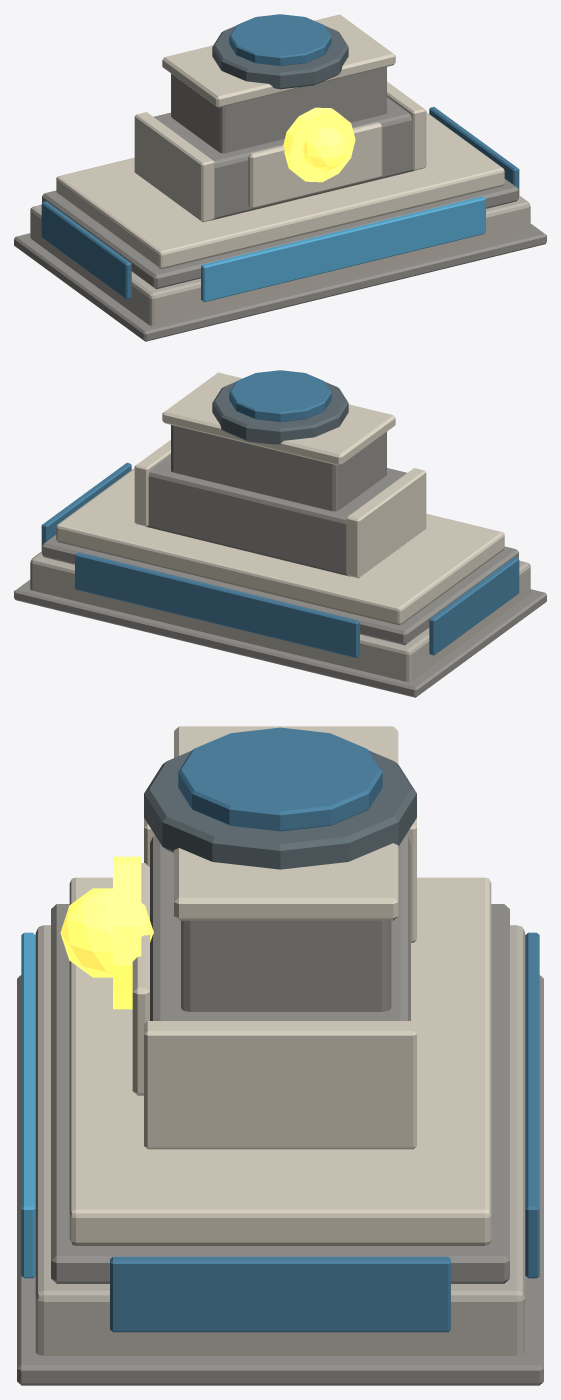
Rendered from hq_common.glb.
The picture shows the model from 3 angles, top to bottom: view 1: azimuth 30°, elevation 25°; view 2: azimuth 150°, elevation 25°; view 3: azimuth 270°, elevation 25°; orthographic projection. The views are drawn at different scales.
Visible parts, largest first — view 1: Base_Top, FactionPanel_Front, Base_Main, Core_UpperHousing, Base_Skirt, Core_Housing, Core_UpperTrim, Core_Frame_Left, Base_Trim, Core_Frame_Front, Turret_Collar, Turret_Base (+5 smaller); view 2: Base_Top, Core_Housing, FactionPanel_Back, Core_UpperHousing, Base_Main, Base_Skirt, Core_UpperTrim, Core_Frame_Left, Base_Trim, Turret_Collar, Turret_Base, FactionPanel_Left (+2 smaller); view 3: Base_Top, Core_Frame_Right, Base_Main, FactionPanel_Right, Base_Skirt, Base_Trim, Core_UpperHousing, Turret_Collar, Core_UpperTrim, Turret_Base, Core_Housing, FactionPanel_Back (+5 smaller).
Boxes of the visible parts, x1,y1,x2,y2 form: Base_Top: [56, 112, 504, 268]; FactionPanel_Front: [201, 196, 485, 302]; Base_Main: [30, 195, 530, 325]; Core_UpperHousing: [171, 67, 386, 153]; Base_Skirt: [14, 224, 546, 341]; Core_Housing: [154, 97, 414, 220]; Core_UpperTrim: [162, 14, 395, 107]; Core_Frame_Left: [134, 112, 214, 222]; Base_Trim: [42, 179, 518, 289]; Core_Frame_Front: [248, 122, 382, 208]; Turret_Collar: [229, 14, 331, 65]; Turret_Base: [212, 26, 348, 89]; Base_Top: [56, 468, 504, 624]; Core_Housing: [146, 455, 406, 576]; FactionPanel_Back: [75, 552, 359, 658]; Core_UpperHousing: [171, 425, 386, 511]; Base_Main: [30, 551, 530, 681]; Base_Skirt: [14, 580, 546, 697]; Core_UpperTrim: [162, 372, 395, 465]; Core_Frame_Left: [346, 468, 426, 578]; Base_Trim: [42, 535, 518, 645]; Turret_Collar: [229, 370, 331, 421]; Turret_Base: [212, 382, 348, 444]; FactionPanel_Left: [429, 557, 519, 655]; Base_Top: [69, 877, 491, 1245]; Core_Frame_Right: [144, 1021, 416, 1149]; Base_Main: [35, 925, 525, 1355]; FactionPanel_Right: [110, 1256, 450, 1332]; Base_Skirt: [17, 975, 543, 1385]; Base_Trim: [51, 904, 509, 1283]; Core_UpperHousing: [181, 920, 391, 1011]; Turret_Collar: [178, 727, 382, 831]; Core_UpperTrim: [174, 726, 398, 920]; Turret_Base: [144, 751, 416, 869]; Core_Housing: [150, 835, 410, 1020]; FactionPanel_Back: [525, 932, 539, 1278].
Bounding box in the file's own units: 6.56 × 3.27 × 3.71.
